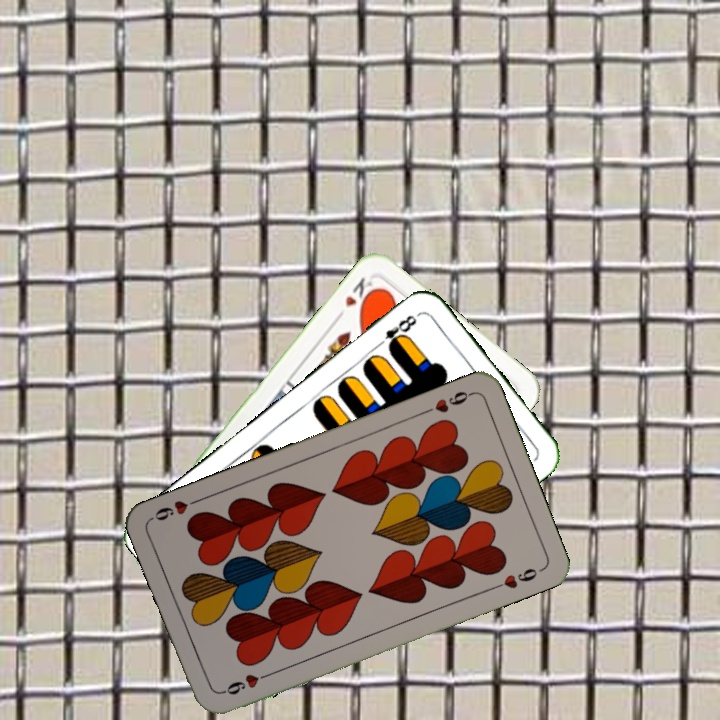E8: (371, 310, 420, 353)
H9: (419, 387, 476, 417), (217, 668, 274, 698)
HK: (331, 273, 380, 323)
